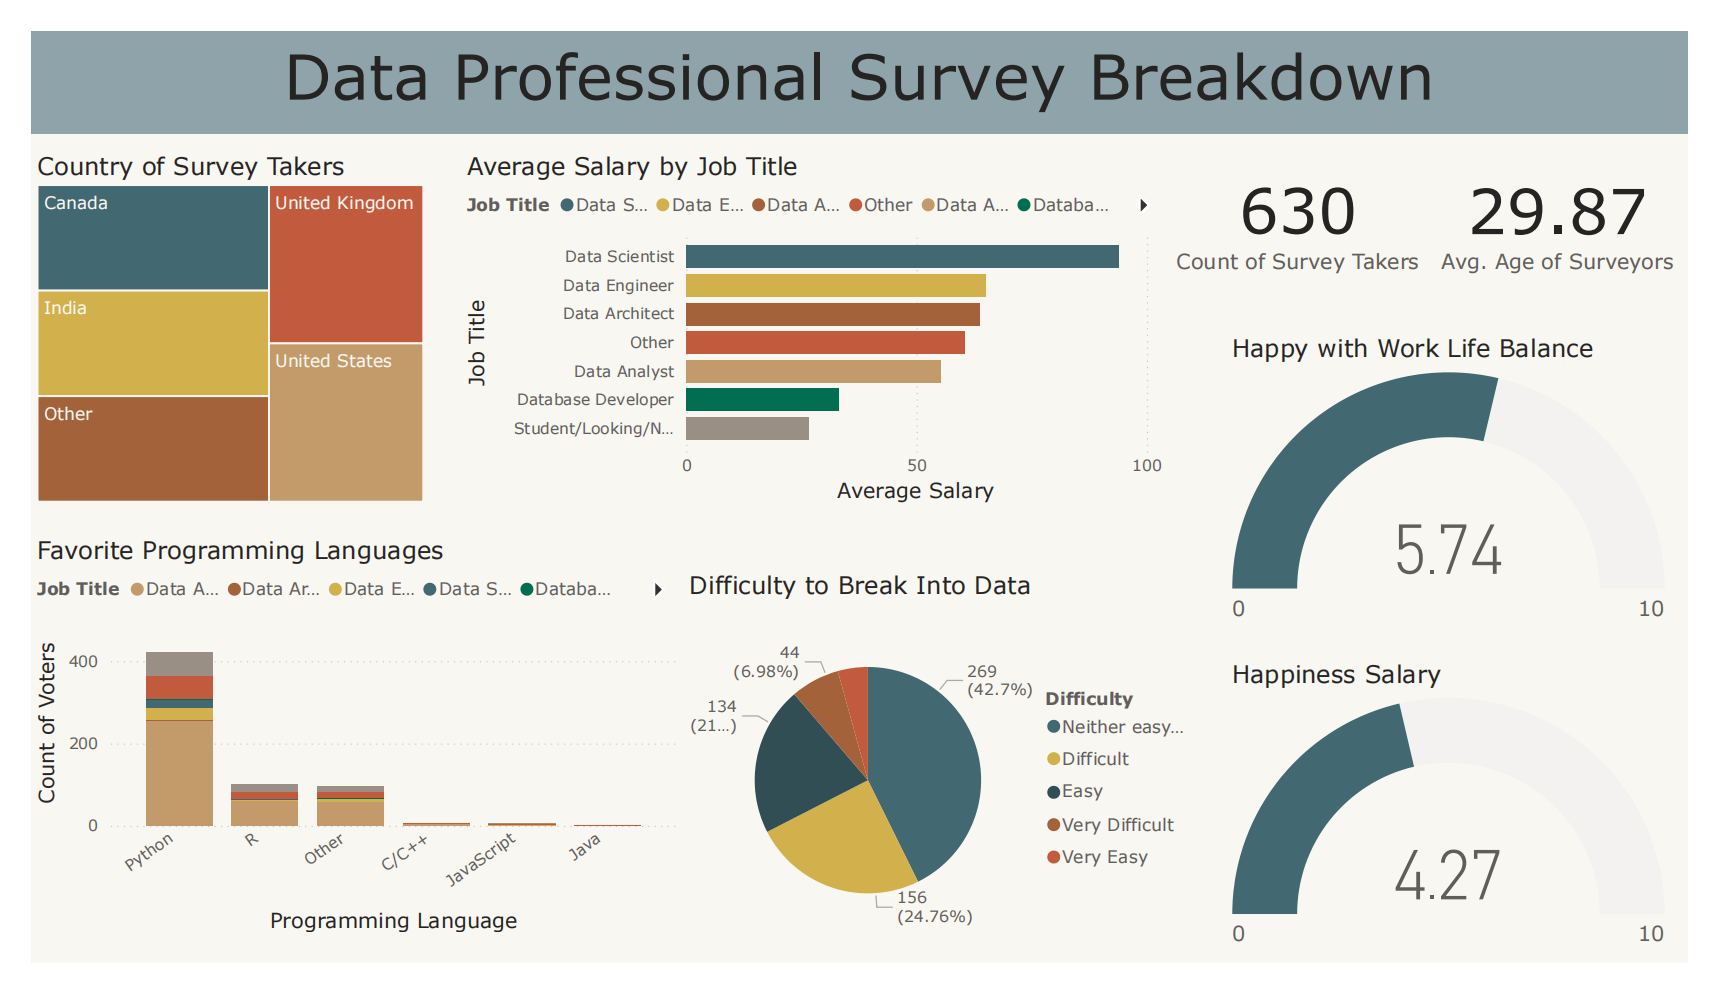

Layout of this report page (visuals, bound fields, positions):
{"tool":"powerbi","page":{"name":"Page 1","canvas":[1280,720],"ordinal":0},"visuals":[{"type":"textbox","box":[0,0,1280.3,79.2],"z":0},{"type":"card","fields":{"Values":["Count(Data Professional Survey.Unique ID)"]},"box":[878.9,80,200,132],"z":1000},{"type":"card","fields":{"Values":["Avg(Data Professional Survey.Q10 - Current Age)"]},"box":[1078.9,80,201.4,133.4],"z":2000},{"type":"barChart","title":"Average Salary by Job Title","fields":{"Category":["Data Professional Survey.Q1 - Which Title Best Fits your Current Role?.1"],"Y":["Avg(Data Professional Survey.Average Salary)"],"Series":["Data Professional Survey.Q1 - Which Title Best Fits your Current Role?.1"]},"box":[332.1,92,546.8,277.4],"z":3000},{"type":"columnChart","title":"Favorite Programming Languages","fields":{"Category":["Data Professional Survey.Q5 - Favorite Programming Language.1"],"Y":["CountNonNull(Data Professional Survey.Unique ID)"],"Series":["Data Professional Survey.Q1 - Which Title Best Fits your Current Role?.1"]},"box":[0,389.4,504.1,312.1],"z":4000},{"type":"treemap","title":"Country of Survey Takers","fields":{"Group":["Data Professional Survey.Q11 - Which Country do you live in?.1"],"Values":["Count(Data Professional Survey.Q11 - Which Country do you live in?.1)"]},"box":[0,92,308.1,277.4],"z":5000},{"type":"gauge","title":"Happy with Work Life Balance","fields":{"Y":["Avg(Data Professional Survey.Q6 - How Happy are you in your Current Position with the following? (Work/Life Balance))"],"MinValue":["Min(Data Professional Survey.Q6 - How Happy are you in your Current Position with the following? (Work/Life Balance))1"],"MaxValue":["Max(Data Professional Survey.Q6 - How Happy are you in your Current Position with the following? (Work/Life Balance))2"]},"box":[922.9,233.4,344.1,236],"z":5001},{"type":"gauge","title":"Happiness Salary","fields":{"Y":["Avg(Data Professional Survey.Q6 - How Happy are you in your Current Position with the following? (Salary))"],"MinValue":["Min(Data Professional Survey.Q6 - How Happy are you in your Current Position with the following? (Salary))"],"MaxValue":["Max(Data Professional Survey.Q6 - How Happy are you in your Current Position with the following? (Salary))"]},"box":[922.9,485.4,344.1,234.7],"z":5002},{"type":"pieChart","title":"Difficulty to Break Into Data","fields":{"Category":["Data Professional Survey.Q7 - How difficult was it for you to break into Data?"],"Y":["CountNonNull(Data Professional Survey.Q7 - How difficult was it for you to break into Data?)"]},"box":[504.1,416.1,402.8,304.1],"z":5003}]}

Visuals, with their boxes in screenshot pixels (x1, y1, x2, y2), scaled from the page's 1280x720 canvas onto the 1715x992 screenshot:
textbox: box(0, 0, 1714, 109)
card - Count(Data Professional Survey.Unique ID): box(1178, 110, 1446, 292)
card - Avg(Data Professional Survey.Q10 - Current Age): box(1446, 110, 1714, 294)
"Average Salary by Job Title" barChart: box(445, 127, 1178, 509)
"Favorite Programming Languages" columnChart: box(0, 537, 675, 967)
"Country of Survey Takers" treemap: box(0, 127, 413, 509)
"Happy with Work Life Balance" gauge: box(1237, 322, 1698, 647)
"Happiness Salary" gauge: box(1237, 669, 1698, 991)
"Difficulty to Break Into Data" pieChart: box(675, 573, 1215, 991)
